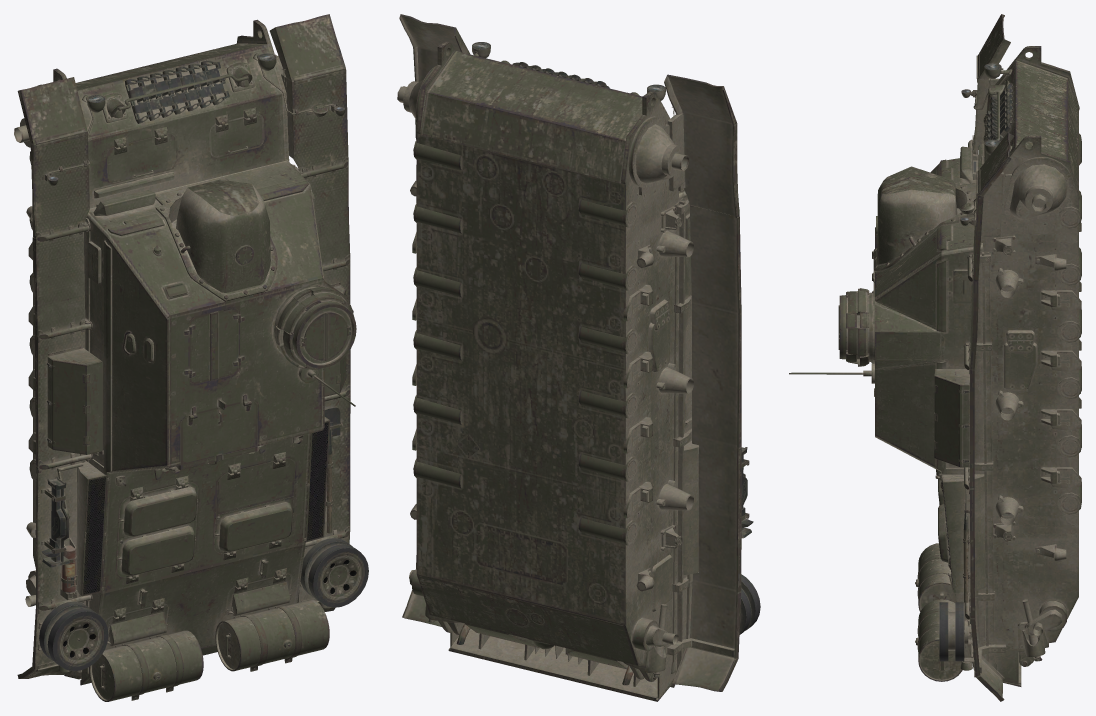
The model's file is Hull.glb.
3 views of the same model, side by side, from view 1: azimuth 30°, elevation 25°; view 2: azimuth 150°, elevation 25°; view 3: azimuth 270°, elevation 25° (orthographic). The views are drawn at different scales.
Visible parts, largest first — view 1: set_0_group_0; view 2: set_0_group_0; view 3: set_0_group_0.
Part boxes in pixels (box(x1,y1,x2,y2)): set_0_group_0: box(14, 14, 368, 701); set_0_group_0: box(397, 14, 760, 701); set_0_group_0: box(789, 14, 1081, 701).
Size of the model in its own units: 2.95 by 5.41 by 2.57.
1 material, 1 textured.
